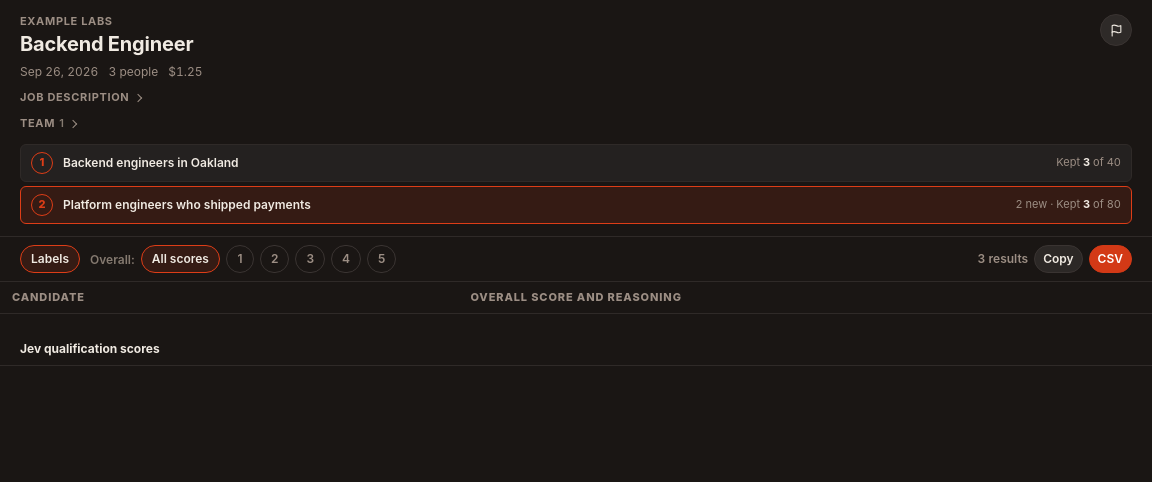
Test case: RunView › folds the team open under the job description
Click the button "Kept" at (187, 205), box [20, 186, 1132, 224]
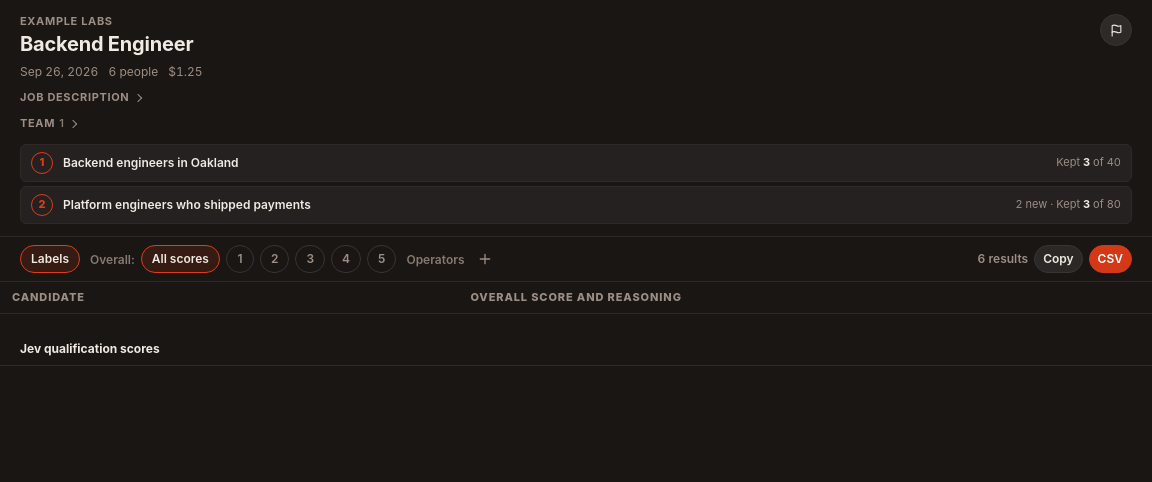
Click the button "Team1" at (38, 123), box [20, 116, 1084, 132]
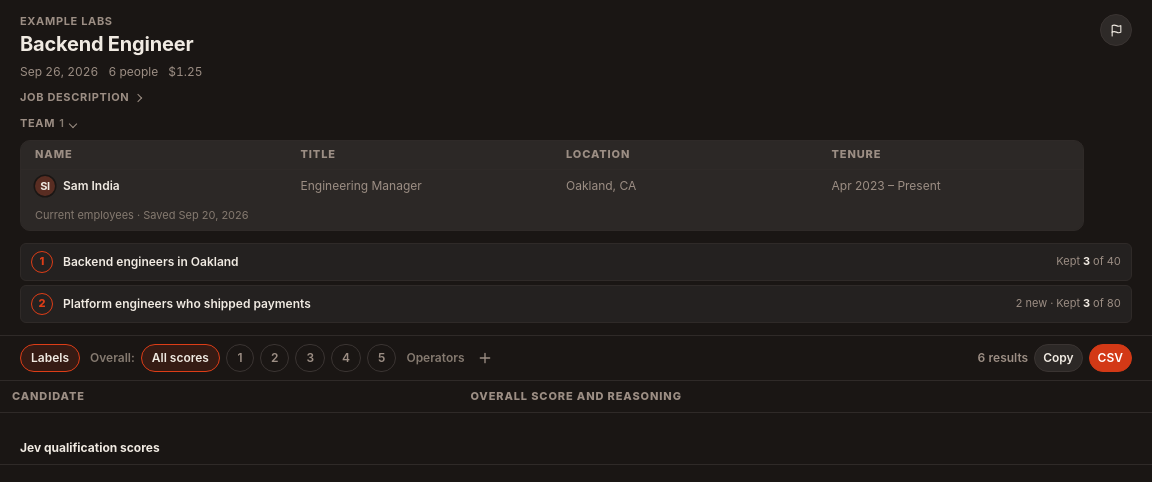
Expected: the text "Sam India" is shown, [63, 178, 120, 193]
Now the button "Team1" is expanded, box [20, 116, 1084, 132]
